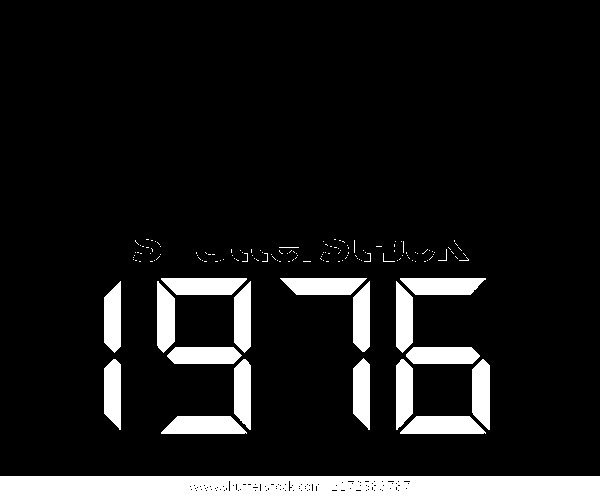nine: (155, 278, 252, 434)
one: (103, 282, 122, 430)
seven: (279, 276, 369, 430)
six: (396, 278, 489, 434)
